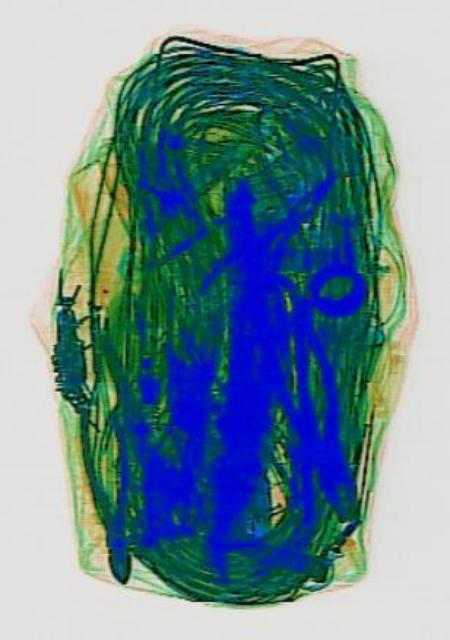Pliers: (256, 310, 373, 530), (75, 400, 142, 588)
